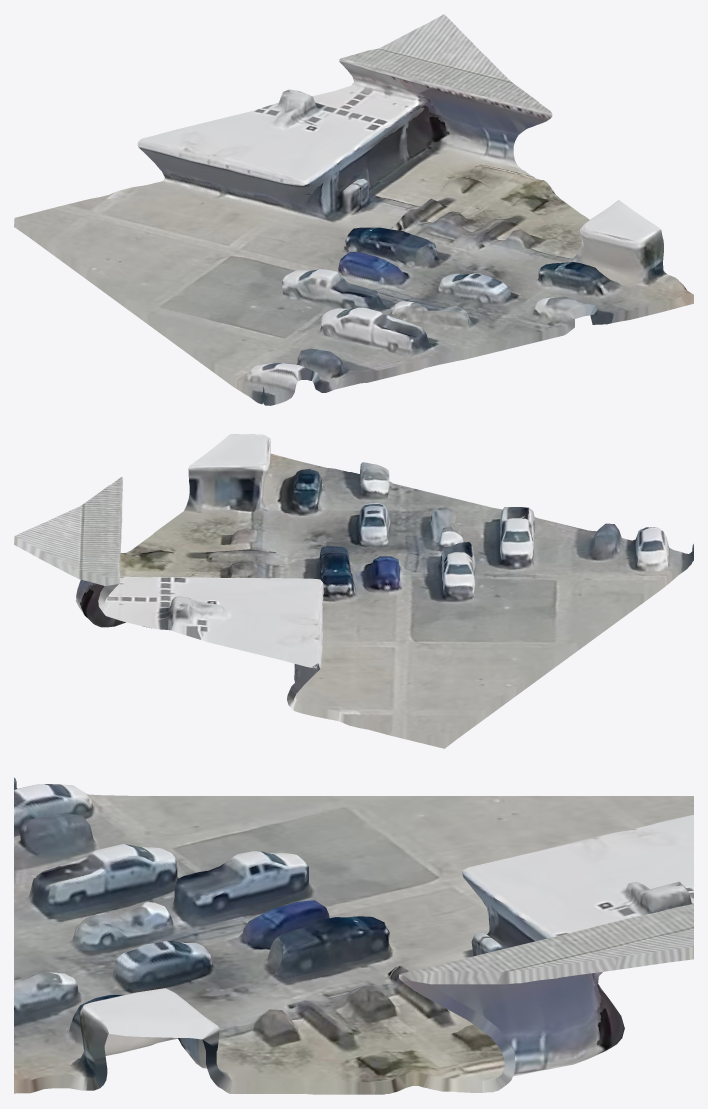
Rendered from z20-167794-405220-h0-yup-uvflip-v3-world.glb.
3 views of the same model, one above another, from view 1: azimuth 30°, elevation 25°; view 2: azimuth 150°, elevation 25°; view 3: azimuth 270°, elevation 25° (orthographic). The views are drawn at different scales.
Size of the model in its own units: 30.24 by 7.28 by 30.32.
Materials: 1 (1 with a texture image).
